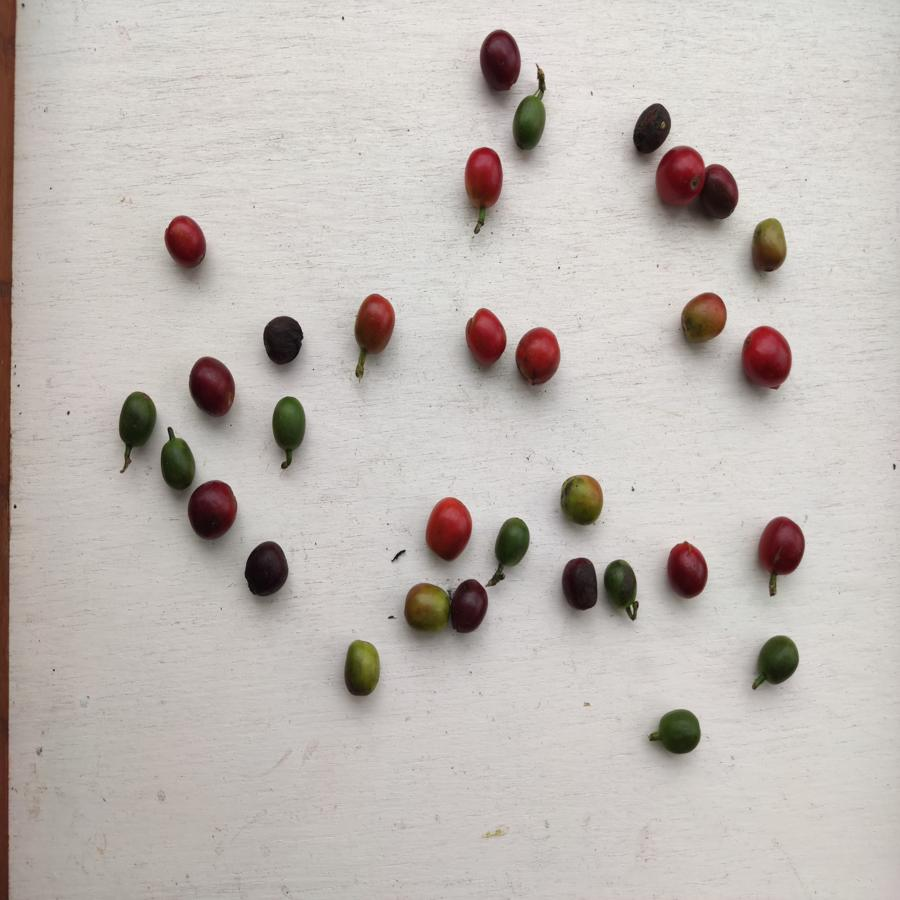Inmaduro: (113, 390, 159, 452), (268, 395, 309, 456), (755, 632, 801, 686), (657, 708, 702, 758), (601, 558, 640, 612), (495, 518, 532, 571), (512, 93, 545, 152), (158, 440, 196, 489)
Maduro: (419, 496, 475, 561), (742, 326, 794, 390), (655, 145, 703, 212), (350, 295, 398, 355), (465, 146, 507, 214), (462, 305, 506, 369), (514, 327, 560, 388), (161, 214, 209, 265)
Pinton: (559, 473, 607, 529), (402, 582, 454, 633), (681, 291, 728, 342), (341, 641, 383, 695), (752, 217, 789, 275)
Sobremaduro: (187, 356, 241, 419), (185, 480, 238, 542), (478, 30, 525, 96), (756, 514, 804, 576), (244, 540, 290, 599), (701, 159, 742, 223), (664, 542, 709, 600), (259, 313, 306, 366), (628, 102, 673, 155), (449, 577, 490, 635), (562, 558, 601, 610)
